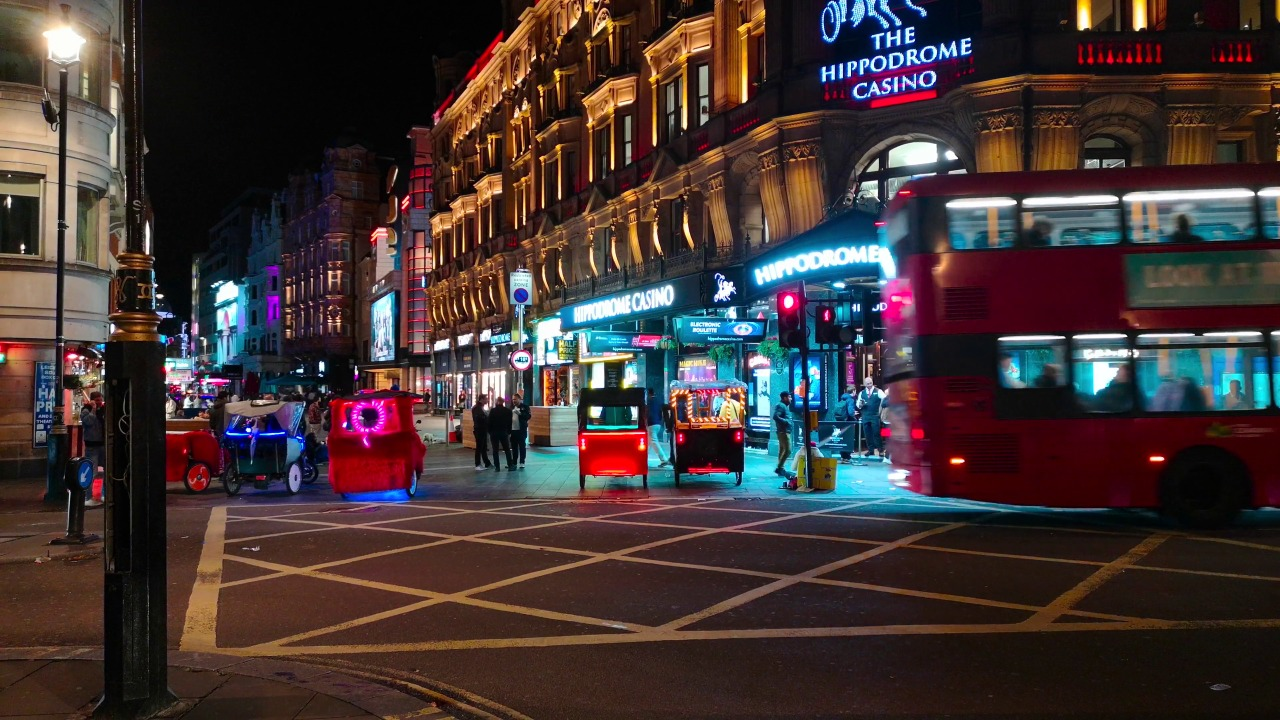car: (896, 169, 1280, 516), (333, 397, 434, 503), (228, 400, 321, 502), (673, 380, 756, 481), (579, 385, 653, 493), (160, 425, 231, 502)
person: (780, 430, 825, 492), (83, 387, 104, 511), (644, 393, 672, 482), (490, 396, 517, 476), (860, 372, 884, 453), (838, 384, 861, 465), (773, 380, 792, 472), (506, 392, 528, 469), (994, 348, 1032, 386), (474, 394, 492, 473), (1160, 212, 1201, 241), (1039, 362, 1069, 398), (1022, 215, 1052, 243), (1223, 374, 1243, 414), (304, 394, 325, 432), (1104, 362, 1130, 392), (454, 390, 472, 406)
